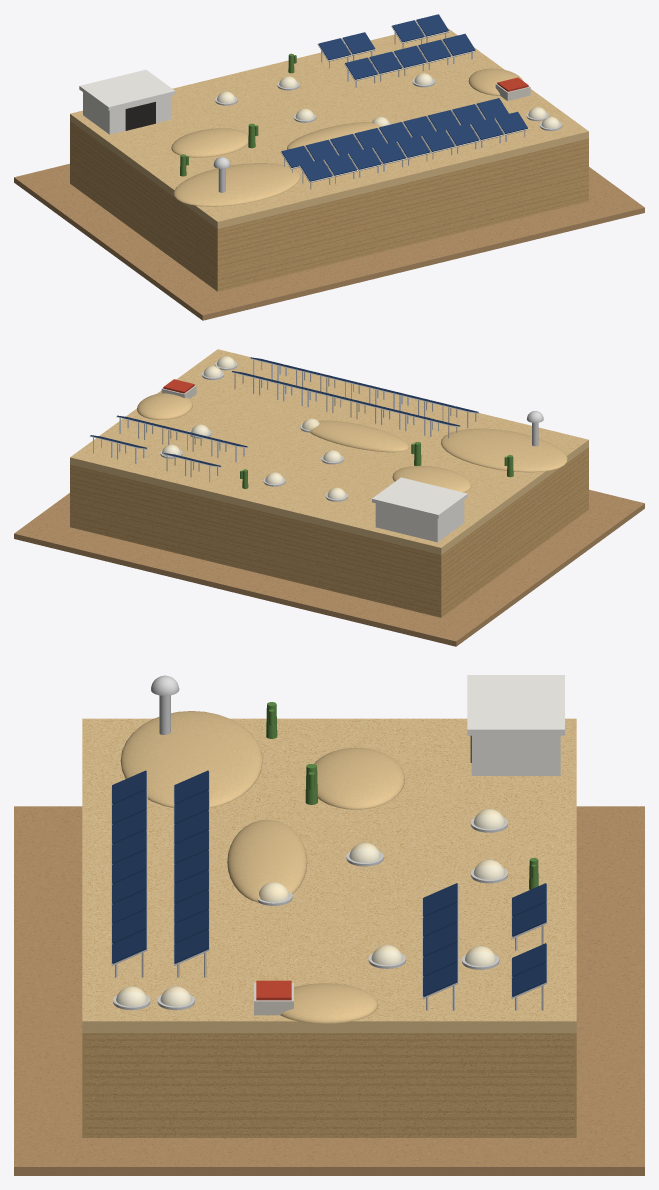
The model's file is bunker.glb.
The picture shows the model from 3 angles, top to bottom: view 1: azimuth 30°, elevation 25°; view 2: azimuth 150°, elevation 25°; view 3: azimuth 270°, elevation 25°; orthographic projection. The views are drawn at different scales.
Visible parts, largest first — view 1: 모래 지면, 흙 단면 (×2), 바닥판, 패널 (×27), 모래 언덕 (×4), 지상 출입구 지붕, 지상 출입구, 출입구 문; view 2: 모래 지면, 흙 단면 (×2), 바닥판, 모래 언덕 (×4), 지상 출입구 지붕, 지상 출입구; view 3: 모래 지면, 바닥판, 흙 단면, 모래 언덕 (×4), 패널 (×27), 지상 출입구 지붕, 지상 출입구, 비상구 뚜껑.
Part boxes in pixels (x1,y1,x2,y2): 모래 지면: (70,28,588,228); 흙 단면 (×2): (70,122,588,291); 바닥판: (14,163,644,320); 패널 (×27): (281,14,527,181); 모래 언덕 (×4): (171,68,522,206); 지상 출입구 지붕: (79,69,175,110); 지상 출입구: (83,92,171,134); 출입구 문: (125,102,155,130); 모래 지면: (70,349,588,554); 흙 단면 (×2): (70,448,588,617); 바닥판: (14,489,644,646); 모래 언덕 (×4): (137,393,567,492); 지상 출입구 지붕: (372,477,467,518); 지상 출입구: (375,500,464,542); 모래 지면: (82,718,576,1033); 바닥판: (14,806,644,1175); 흙 단면: (85,1033,573,1137); 모래 언덕 (×4): (120,711,404,1023); 패널 (×27): (112,770,546,996); 지상 출입구 지붕: (467,675,564,735); 지상 출입구: (471,735,560,775); 비상구 뚜껑: (256,980,291,1000).
Bounding box in the file's own units: 19.2 × 4.74 × 14.2.
17 materials, 3 textured.
